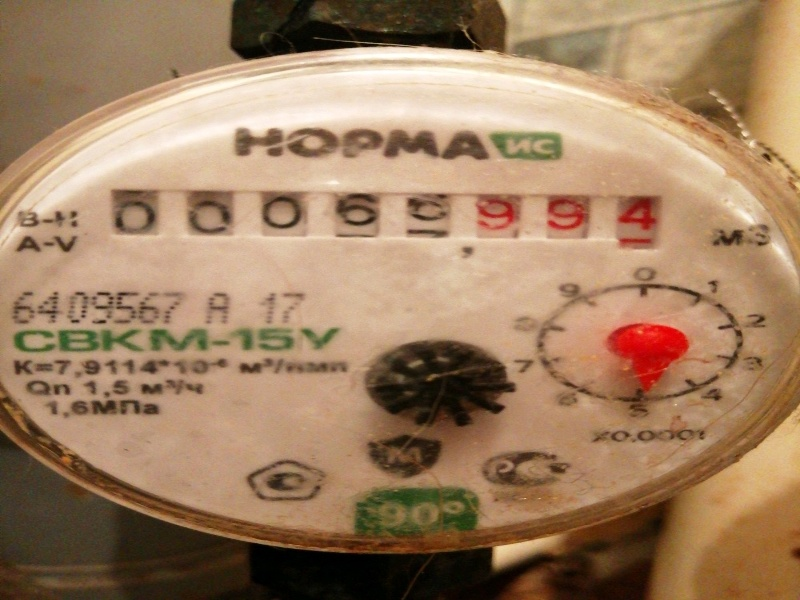dial: (94, 181, 679, 263)
